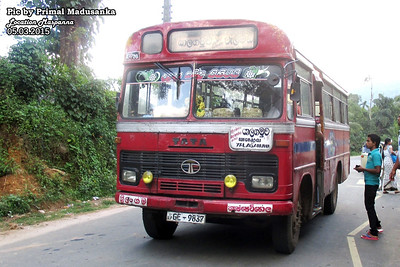bus: (114, 19, 351, 254)
